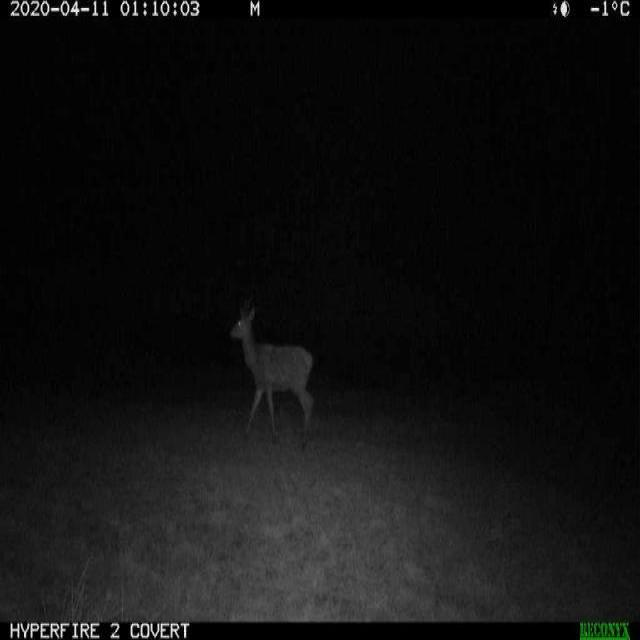deer: (214, 286, 323, 469)
